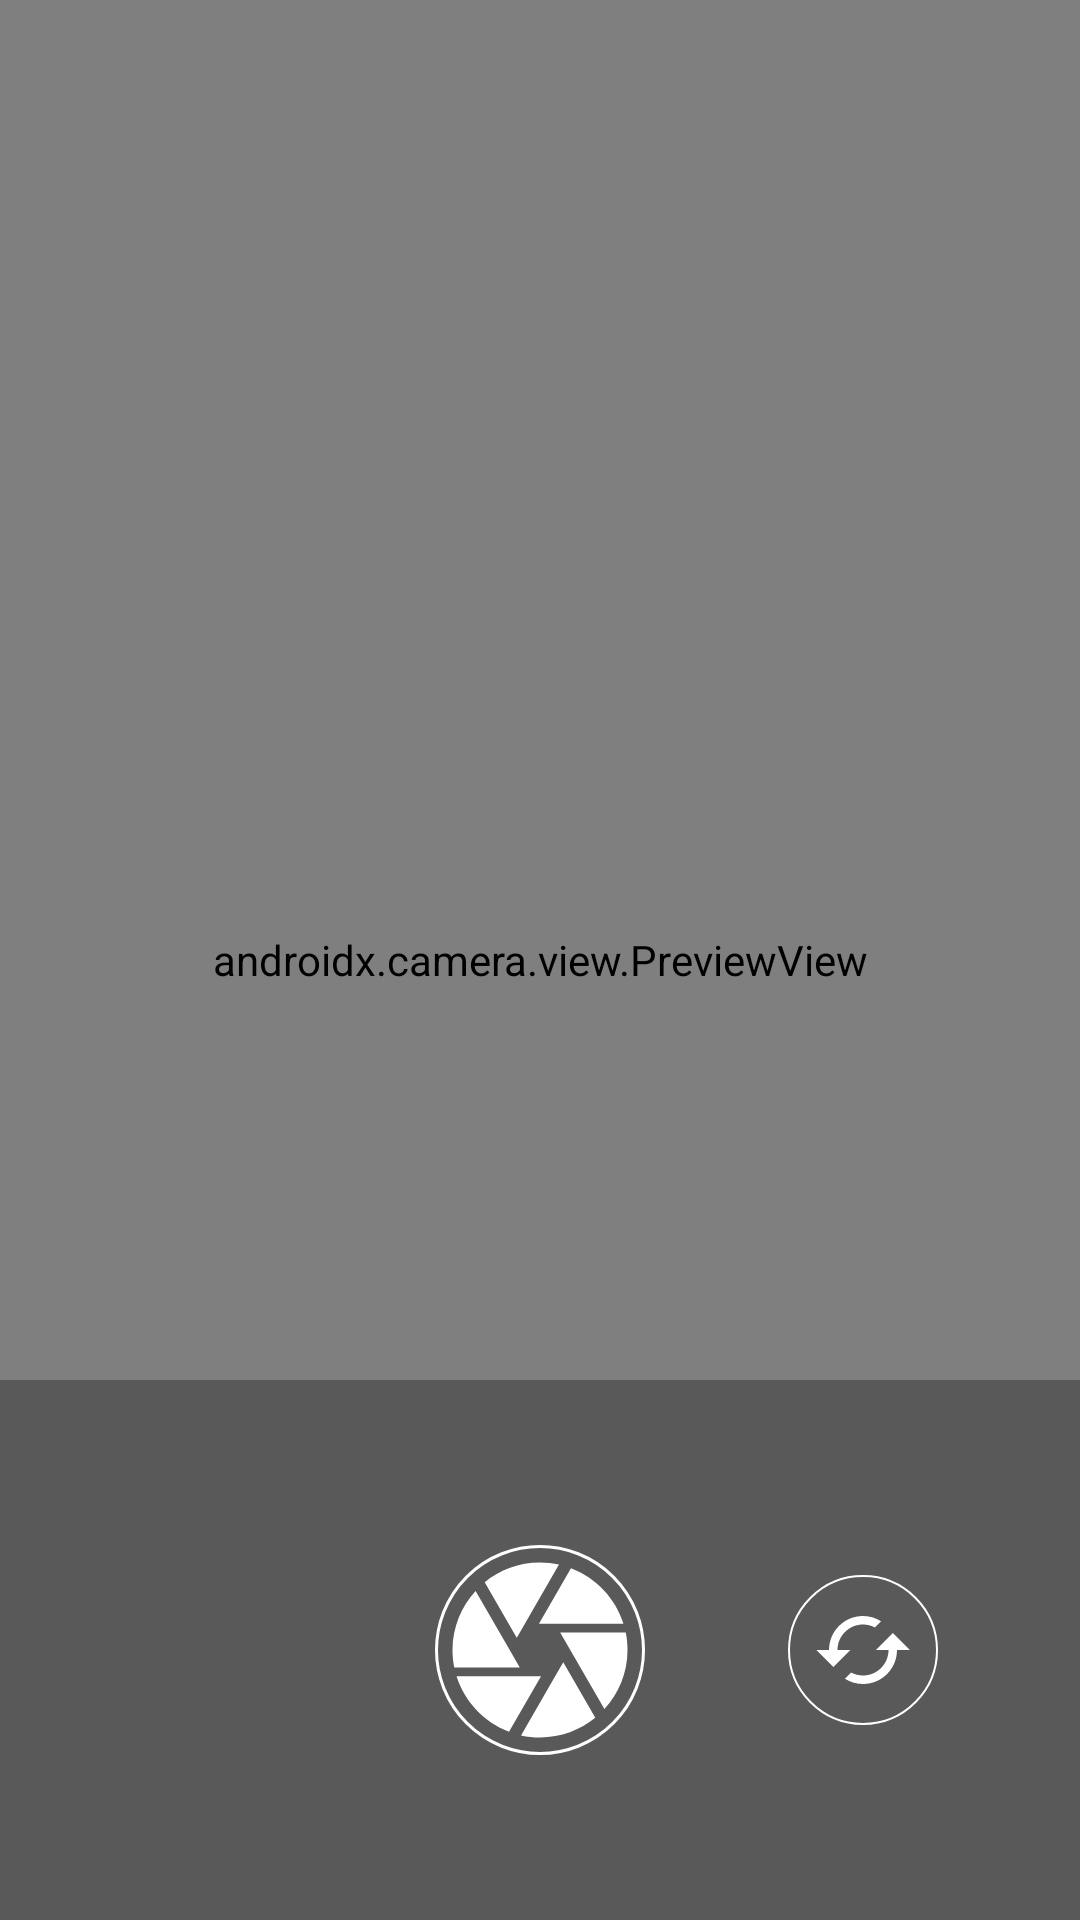

Named icons in this screenshot (1080 x 1920) and their bounding boxes, (x1, y1, x2, y2):
camera capture: (435, 1545, 645, 1755)
camera switch: (788, 1575, 938, 1725)
